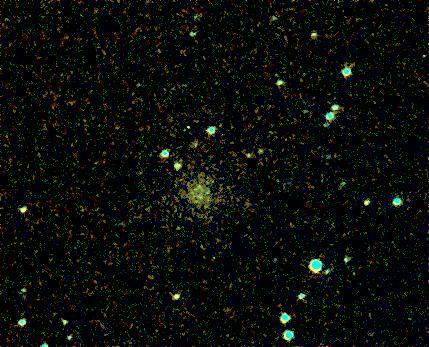star: (170, 108, 200, 138)
